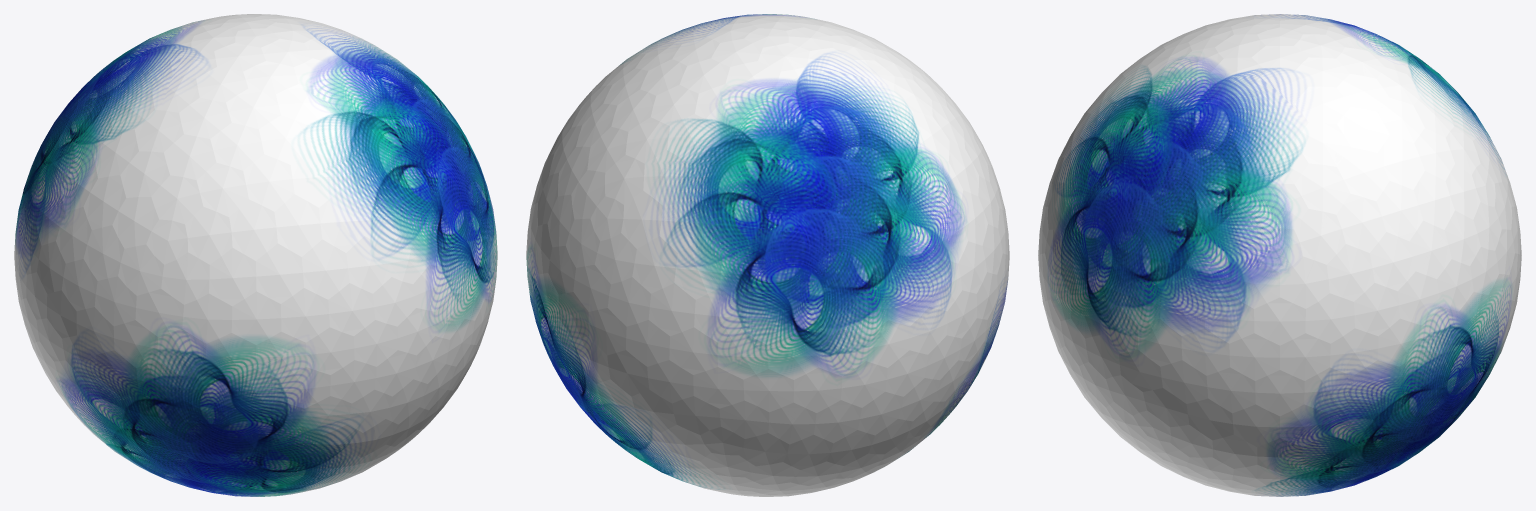
The model's file is ball_m.obj.
The picture shows the model from 3 angles, left to right: view 1: azimuth 30°, elevation 25°; view 2: azimuth 150°, elevation 25°; view 3: azimuth 270°, elevation 25°; orthographic projection.
Visible parts, largest first — view 1: Group6745; view 2: Group6745; view 3: Group6745.
Boxes of the visible parts, x1,y1,x2,y2 form: Group6745: [14, 14, 497, 496]; Group6745: [526, 14, 1009, 496]; Group6745: [1038, 14, 1521, 496].
Bounding box in the file's own units: 1.99 × 1.99 × 1.99.
Materials: 1 (1 with a texture image).
